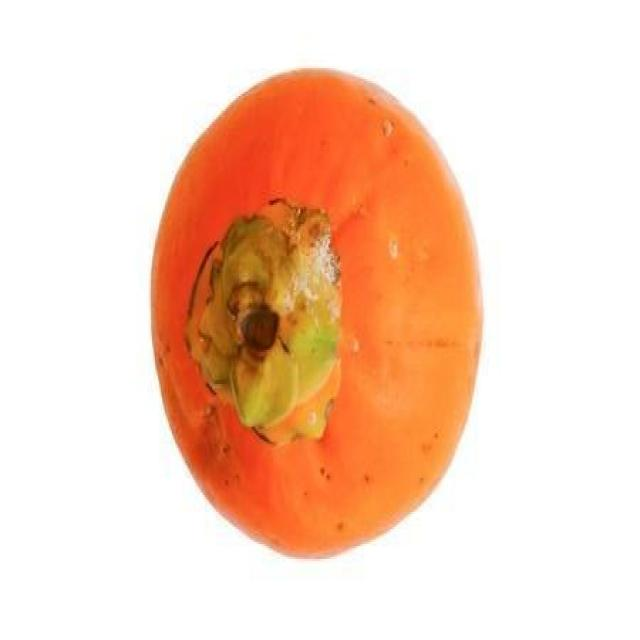good: (149, 70, 486, 561)
